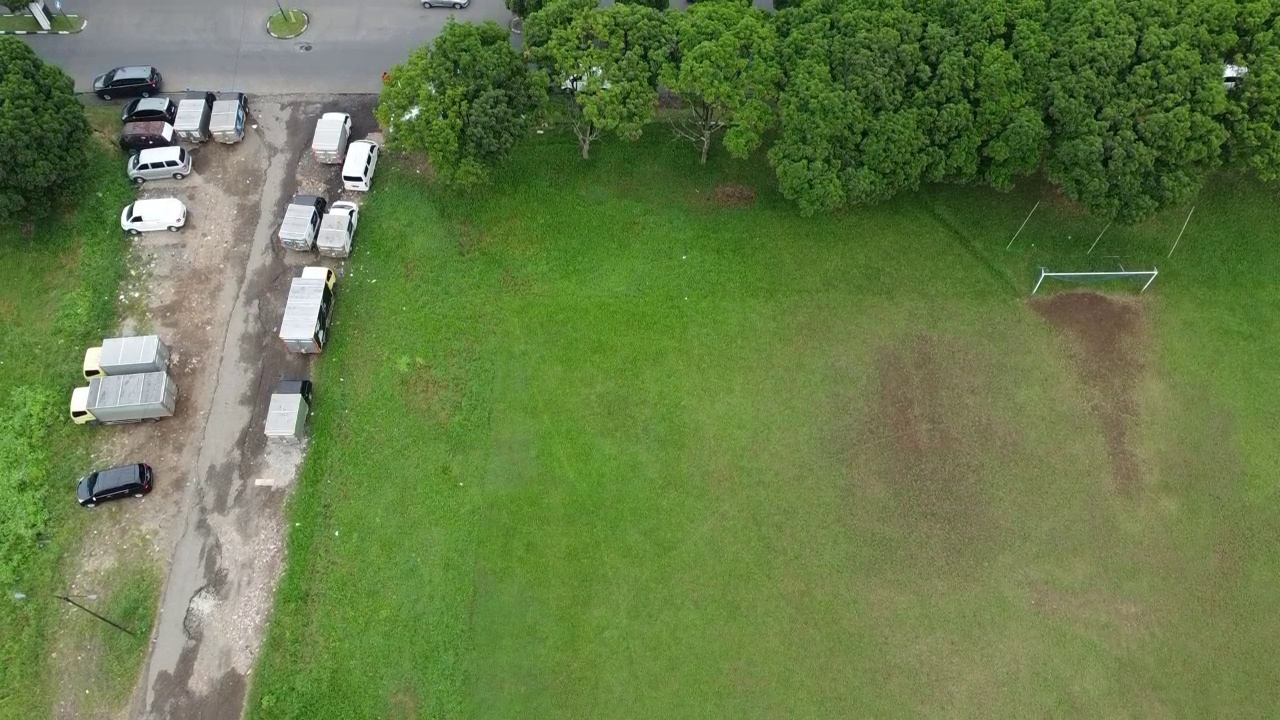mobil: (75, 462, 157, 507), (340, 134, 386, 200), (124, 147, 197, 186), (120, 197, 192, 234), (96, 62, 163, 101), (119, 92, 178, 126), (119, 118, 174, 150)
